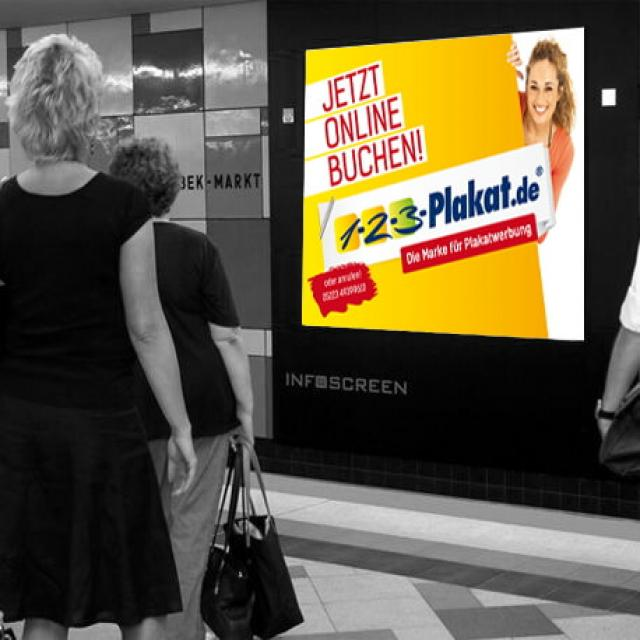Werbetafel frei: (302, 29, 584, 345)
